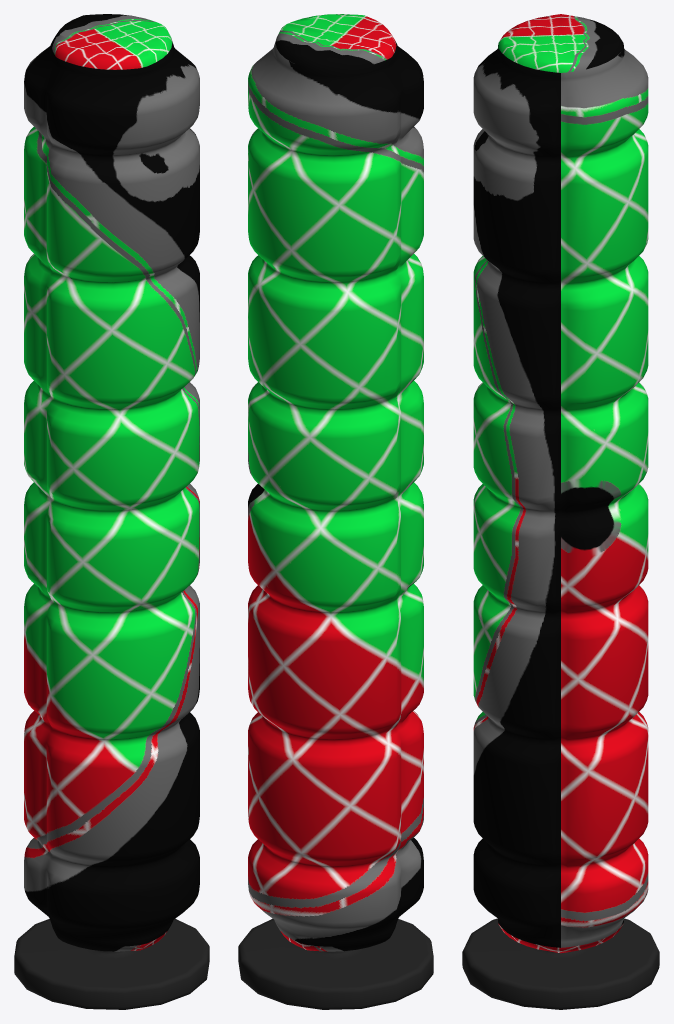
Rendered from Bumper.fbx.
3 renders of one model, left to right at view 1: azimuth 30°, elevation 25°; view 2: azimuth 150°, elevation 25°; view 3: azimuth 270°, elevation 25°, orthographic.
Visible parts, largest first — view 1: bumper, base; view 2: bumper, base; view 3: bumper, base.
Part boxes in pixels (x1=…): bumper: x1=24, y1=14, x2=199, y2=951; base: x1=14, y1=918, x2=209, y2=1009; bumper: x1=248, y1=14, x2=423, y2=951; base: x1=238, y1=918, x2=433, y2=1009; bumper: x1=473, y1=14, x2=648, y2=953; base: x1=462, y1=918, x2=659, y2=1009.
Bounding box in the file's own units: 41.89 × 219 × 41.89.
